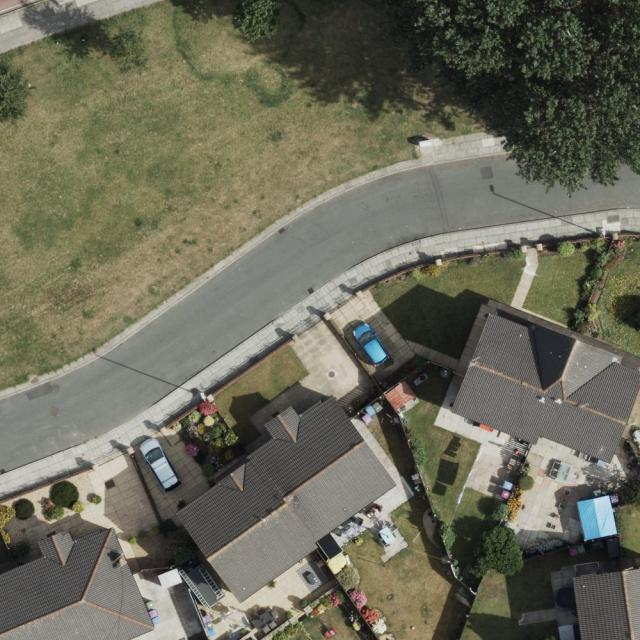roof: (175, 392, 396, 602), (451, 310, 640, 465), (0, 527, 158, 640), (571, 569, 640, 640)
